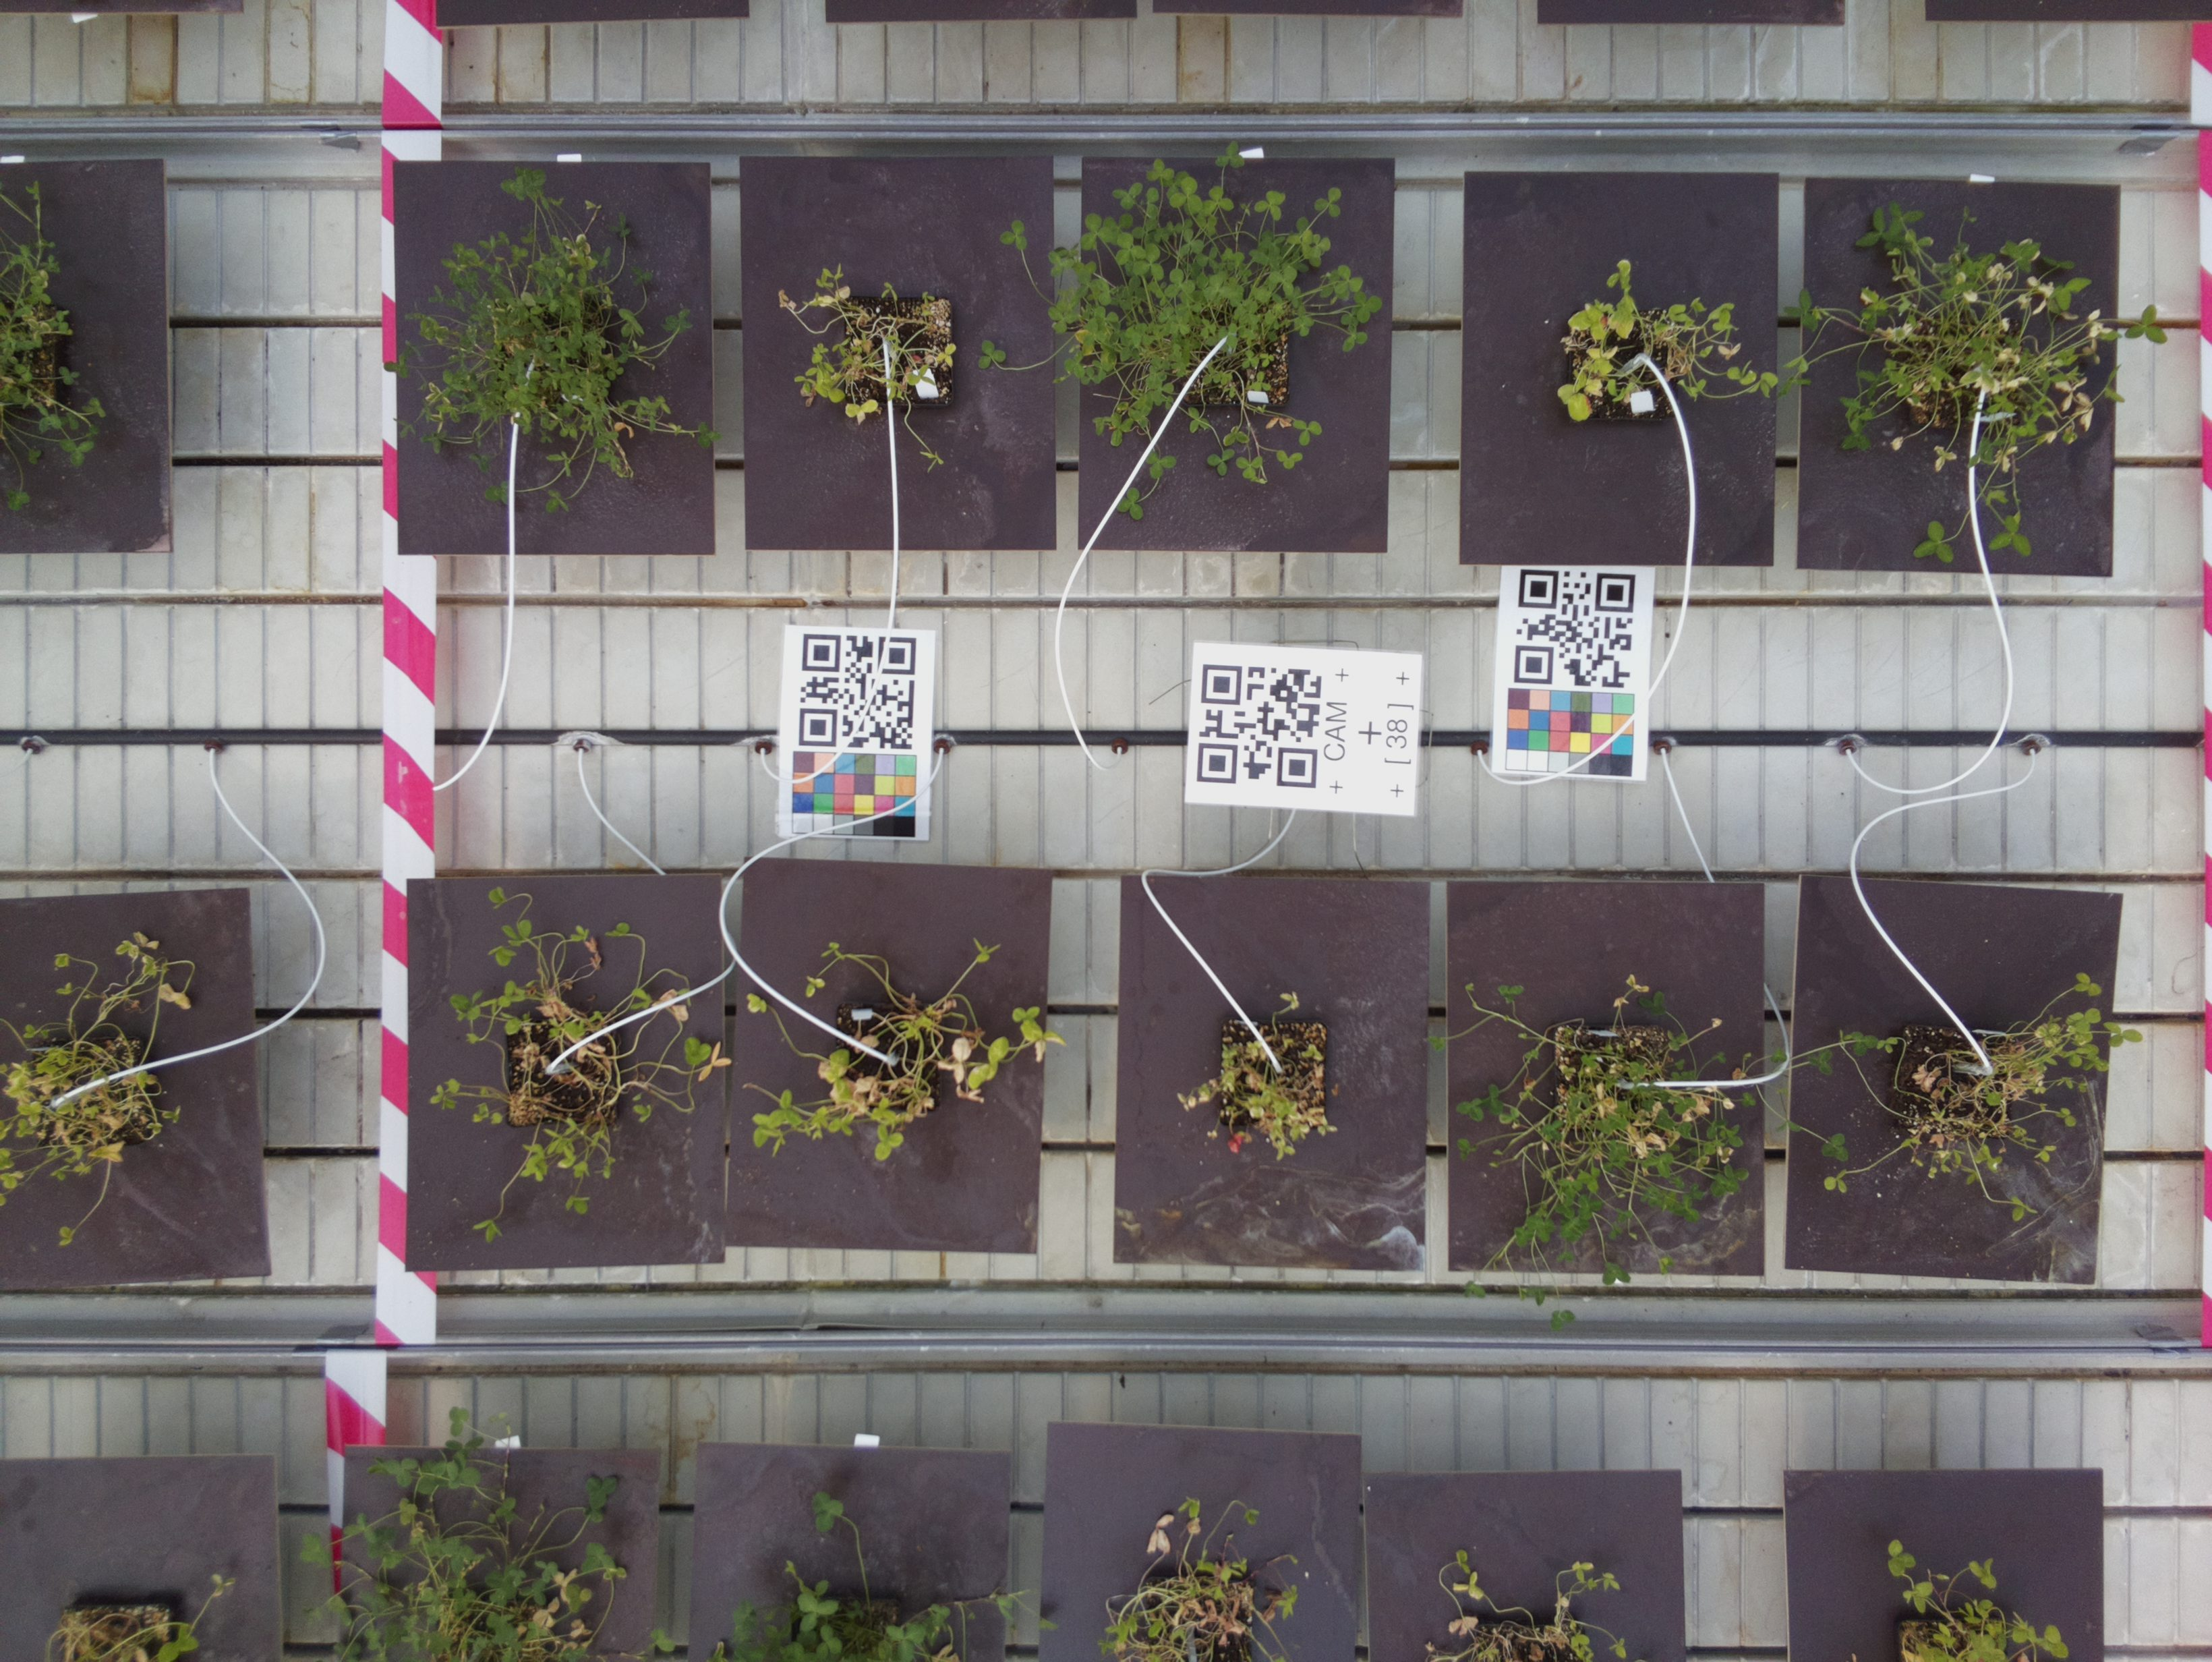POT: (391, 159, 716, 559), (1444, 880, 1765, 1283), (1793, 880, 2111, 1285), (1124, 873, 1439, 1271), (742, 857, 1049, 1262), (742, 159, 1056, 553), (1470, 171, 1781, 566), (1805, 182, 2112, 573), (409, 883, 726, 1260), (1088, 161, 1386, 552)
QRCODE: (1185, 641, 1423, 814)
QRCOLOR: (1491, 564, 1653, 780), (784, 627, 936, 841)
